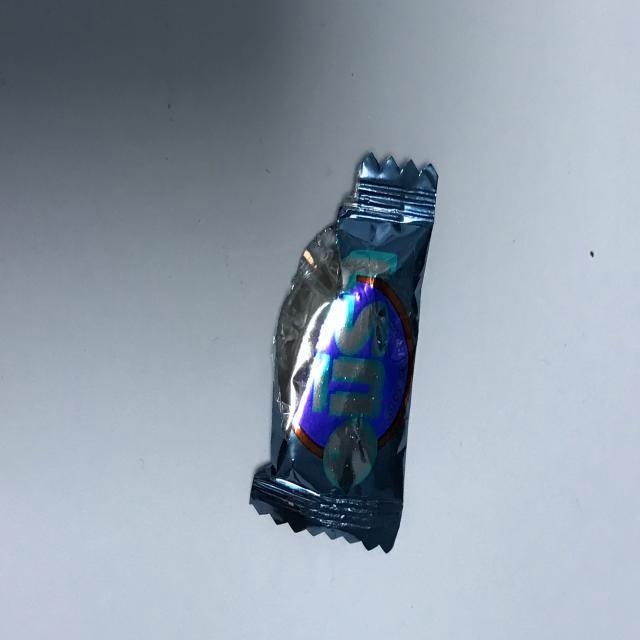plastic: (214, 117, 473, 588)
